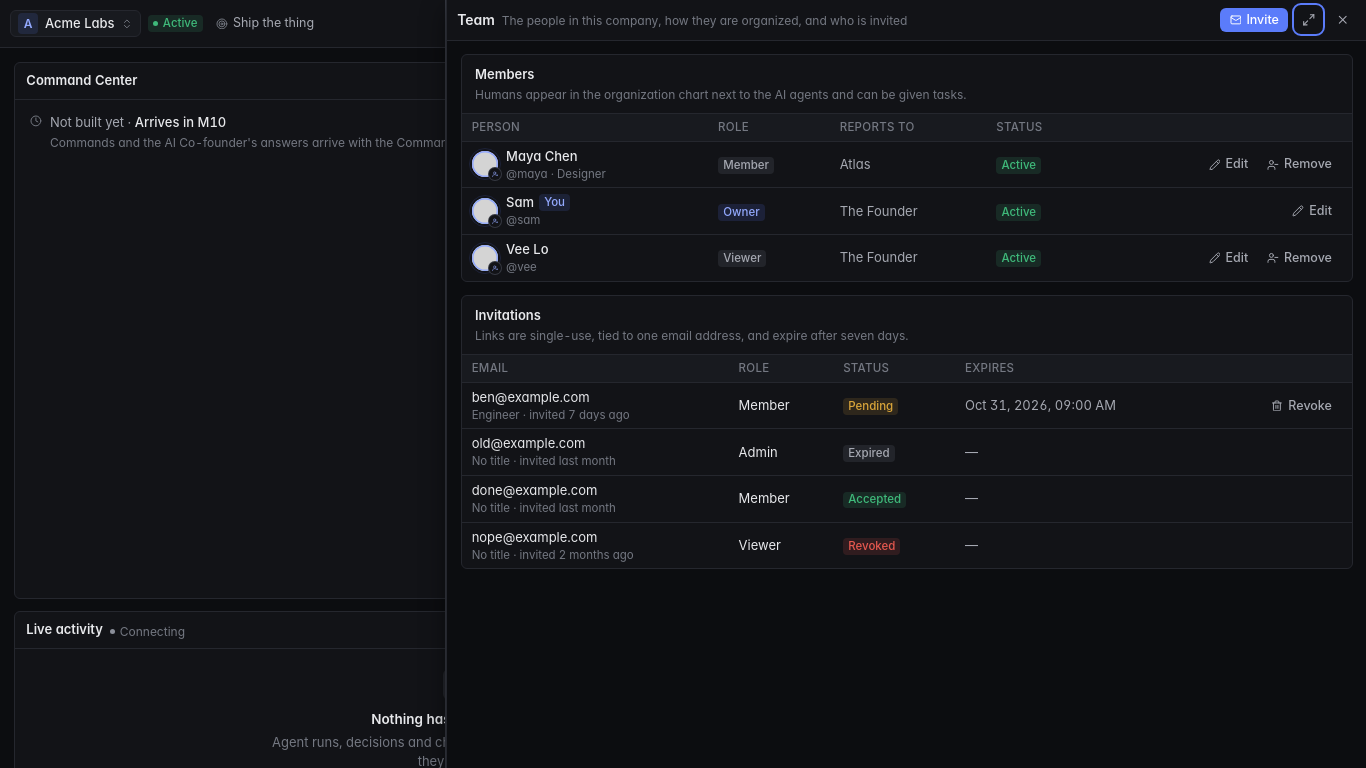
Scenario: team panel › does not offer to demote yourself and does not offer yourself as your own manager
Click the button with aria-label "Edit Sam" at (1312, 211), box [1283, 199, 1341, 223]
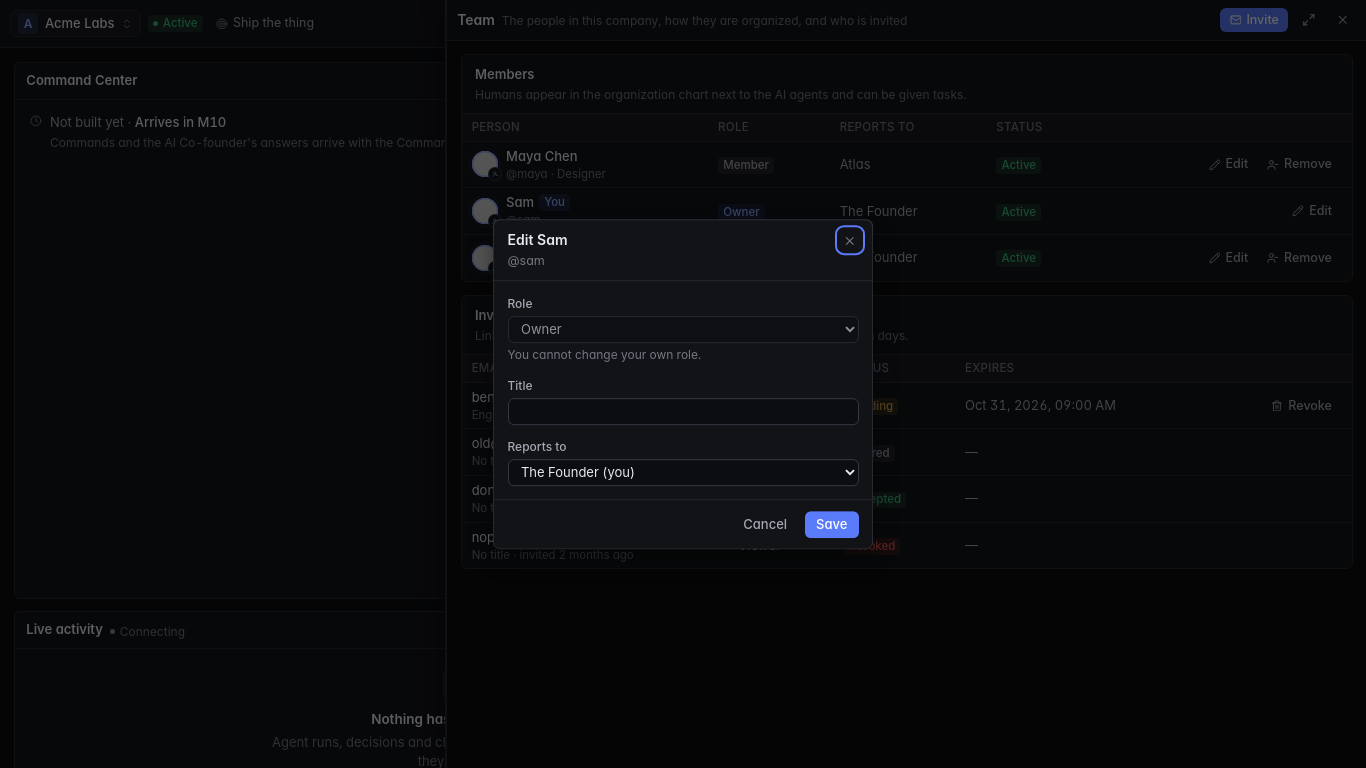
Expected: the dropdown labelled "Role" is disabled, [508, 316, 858, 343]
